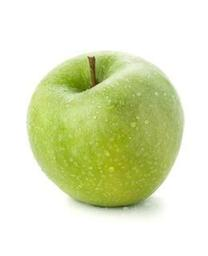apple: (25, 50, 184, 207)
